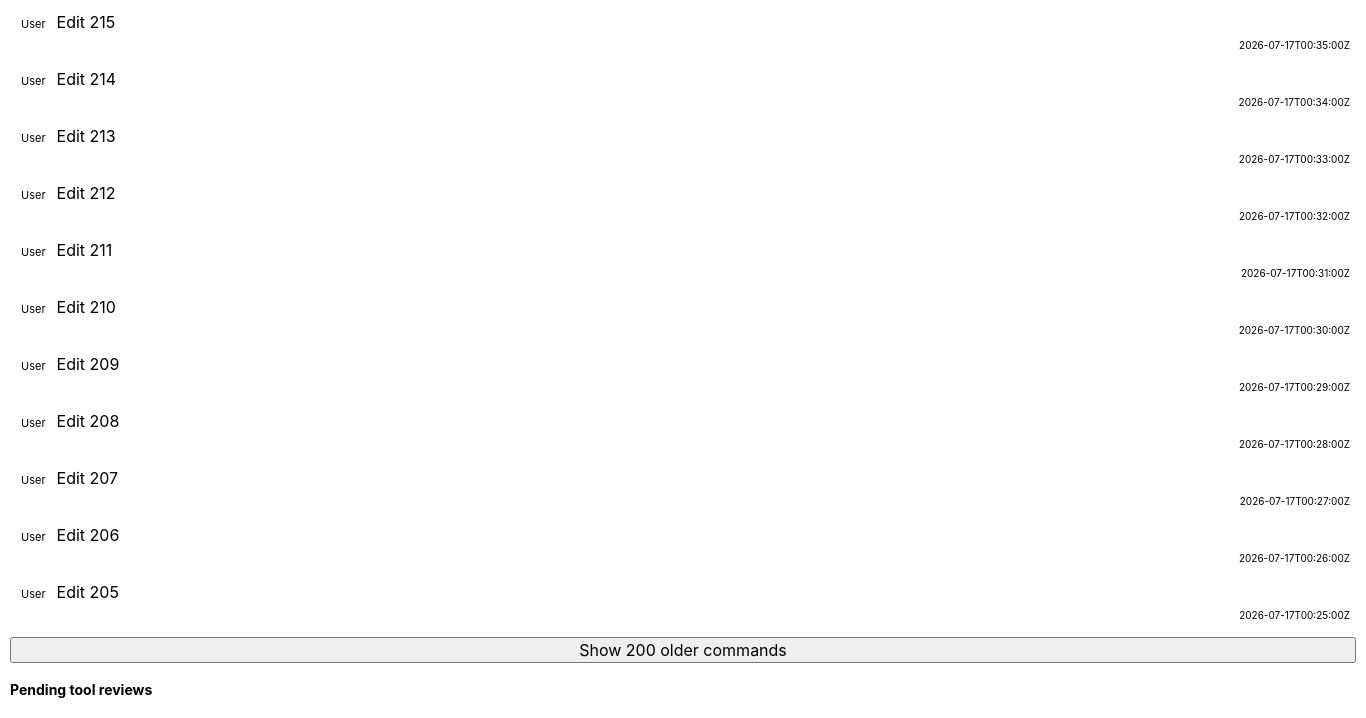
McpReviewPanel › keeps the mounted history DOM bounded while older session commands remain reachable
(page scrolled)
Click the button "Show 200 older commands" at {"x": 683, "y": 650}, box [10,637,1356,663]
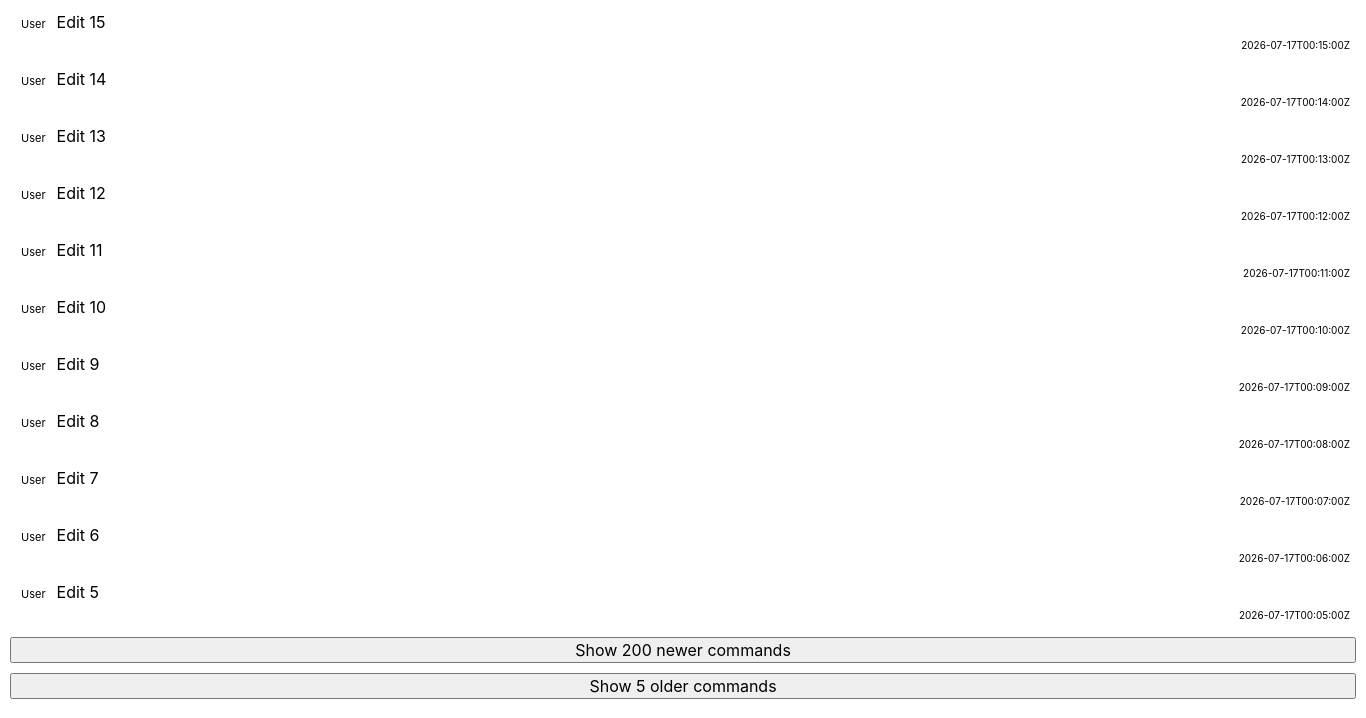
Click the button "Show 5 older commands" at {"x": 683, "y": 686}, box [10,673,1356,699]
(page scrolled)
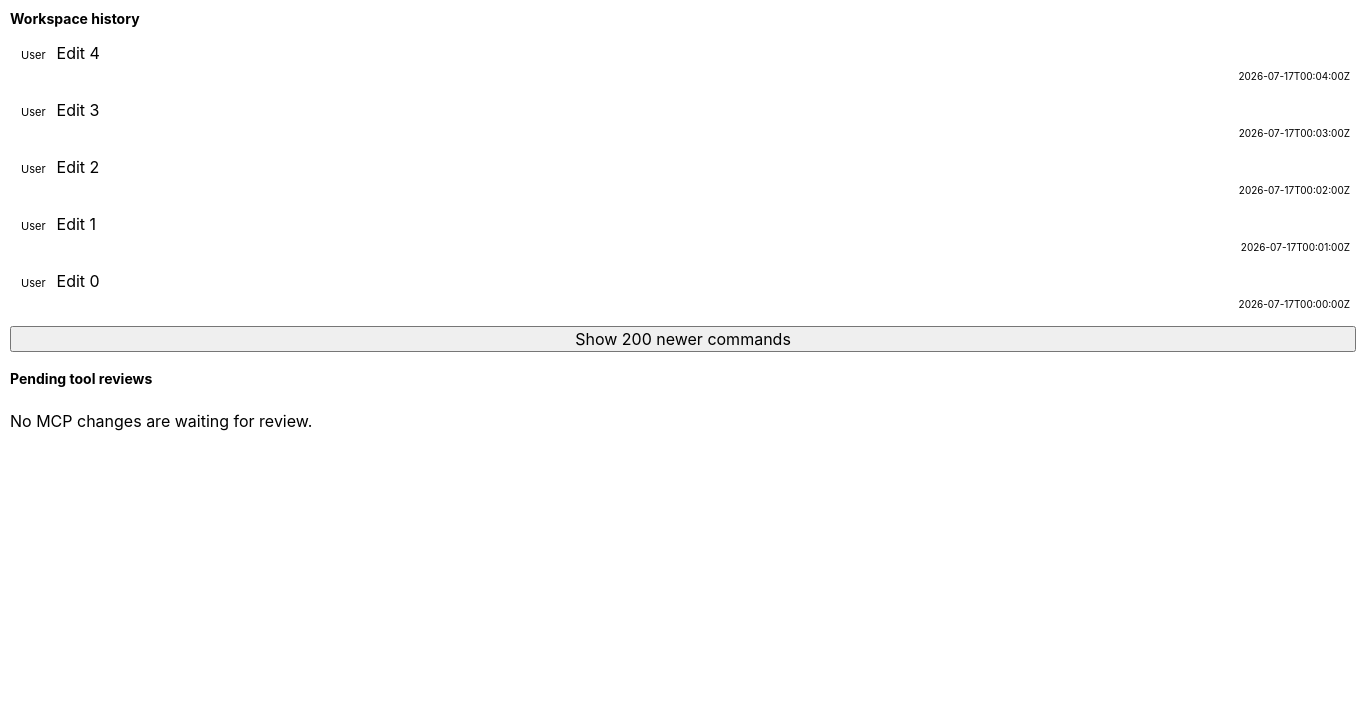
expect the number of buttons named "View command detail:" is 5: met, box [10,37,1356,88]; [10,94,1356,145]; [10,151,1356,202]; [10,208,1356,259]; [10,265,1356,316]
expect the button "older commands" is gone: met
Click the button "Show 200 newer commands" at {"x": 683, "y": 339}, box [10,326,1356,352]
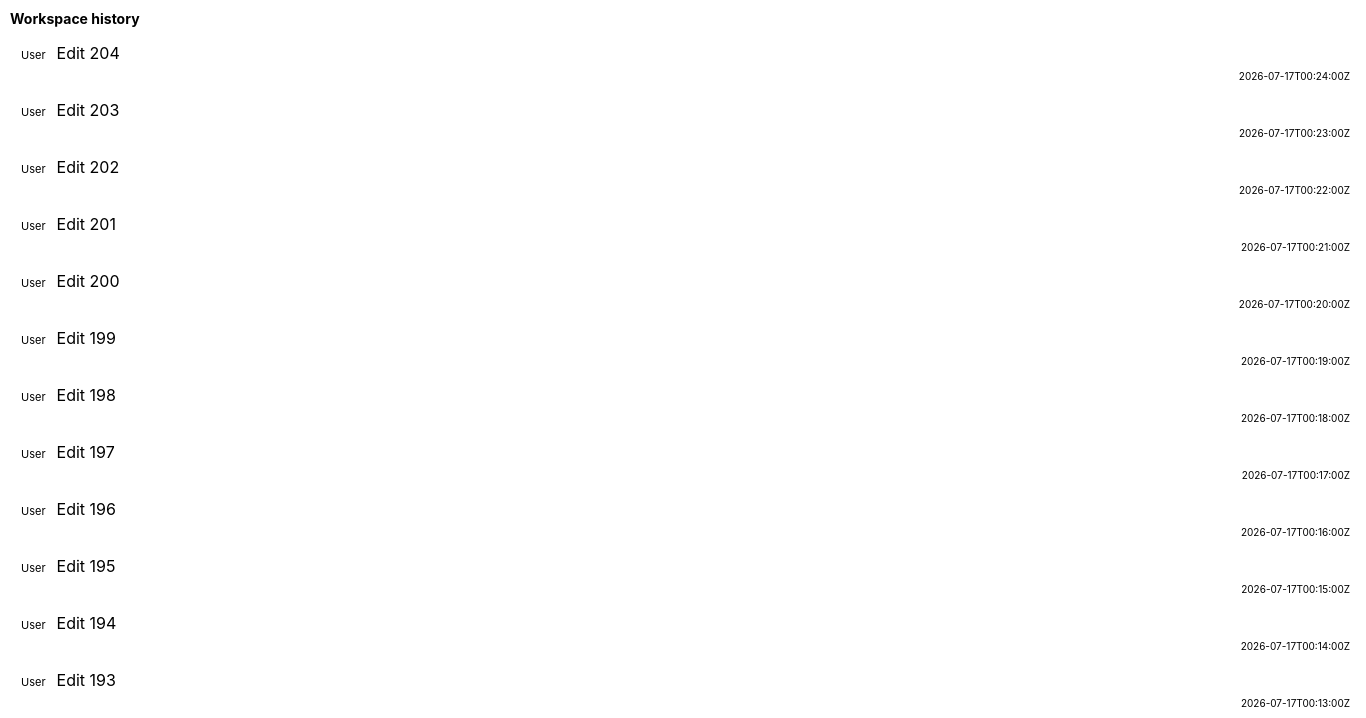
expect the number of buttons named "View command detail:" is 200: met
